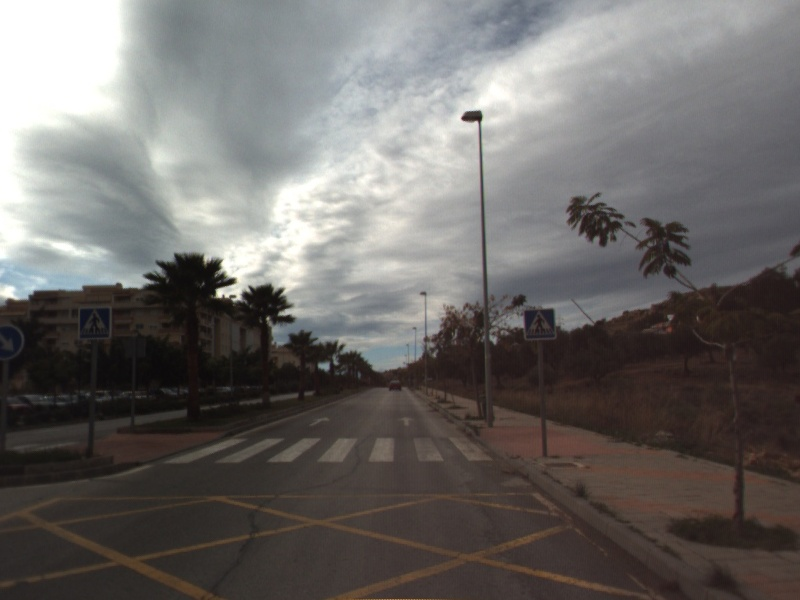STRAIGHT: (307, 415, 332, 428), (396, 414, 416, 428)
